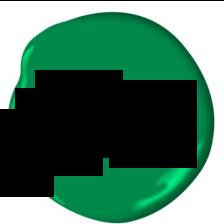green: (7, 11, 214, 222)
